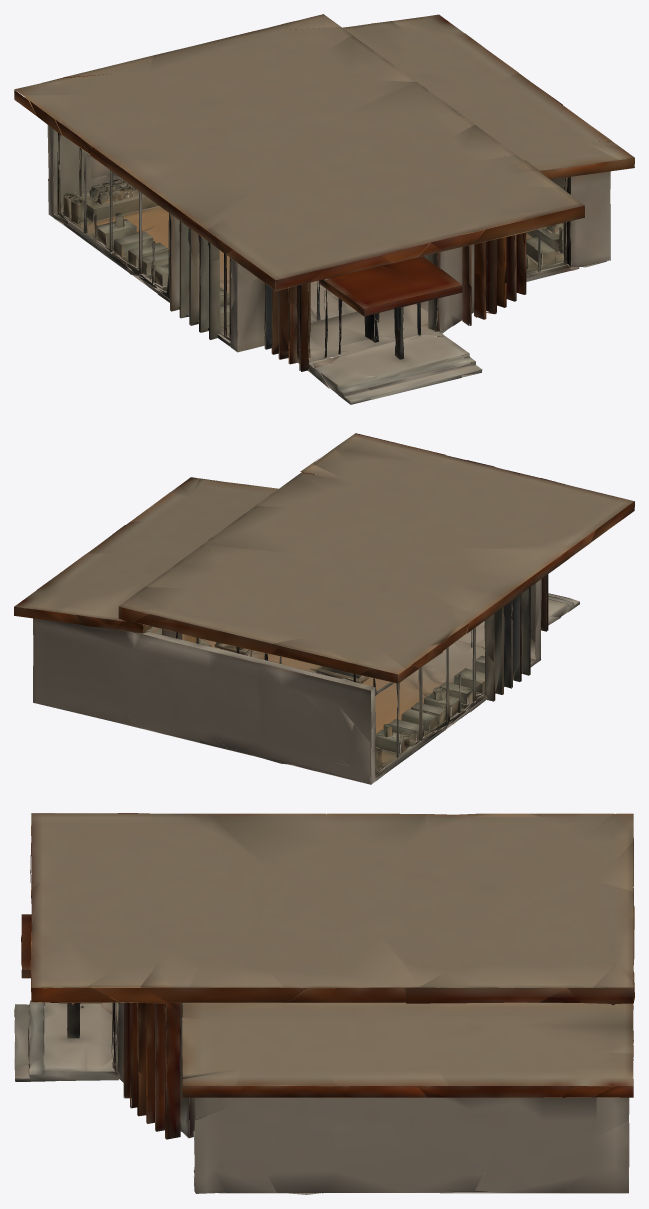
Rendered from lodge_lobby.glb.
3 views of the same model, one above another, from view 1: azimuth 30°, elevation 25°; view 2: azimuth 150°, elevation 25°; view 3: azimuth 270°, elevation 25° (orthographic). The views are drawn at different scales.
Parts seen in each view (by area): view 1: LO.001; view 2: LO.001; view 3: LO.001.
Boxes of the visible parts, <box> form: LO.001: <box>14,14,634,404</box>; LO.001: <box>14,433,634,784</box>; LO.001: <box>14,813,634,1194</box>.
Size of the model in its own units: 26.04 by 7.98 by 28.54.
Materials: 1 (1 with a texture image).
